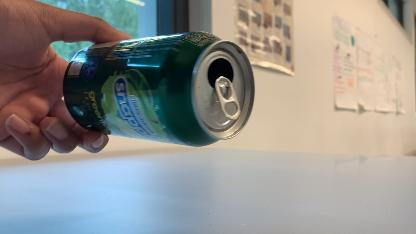Can: (51, 30, 256, 160)
